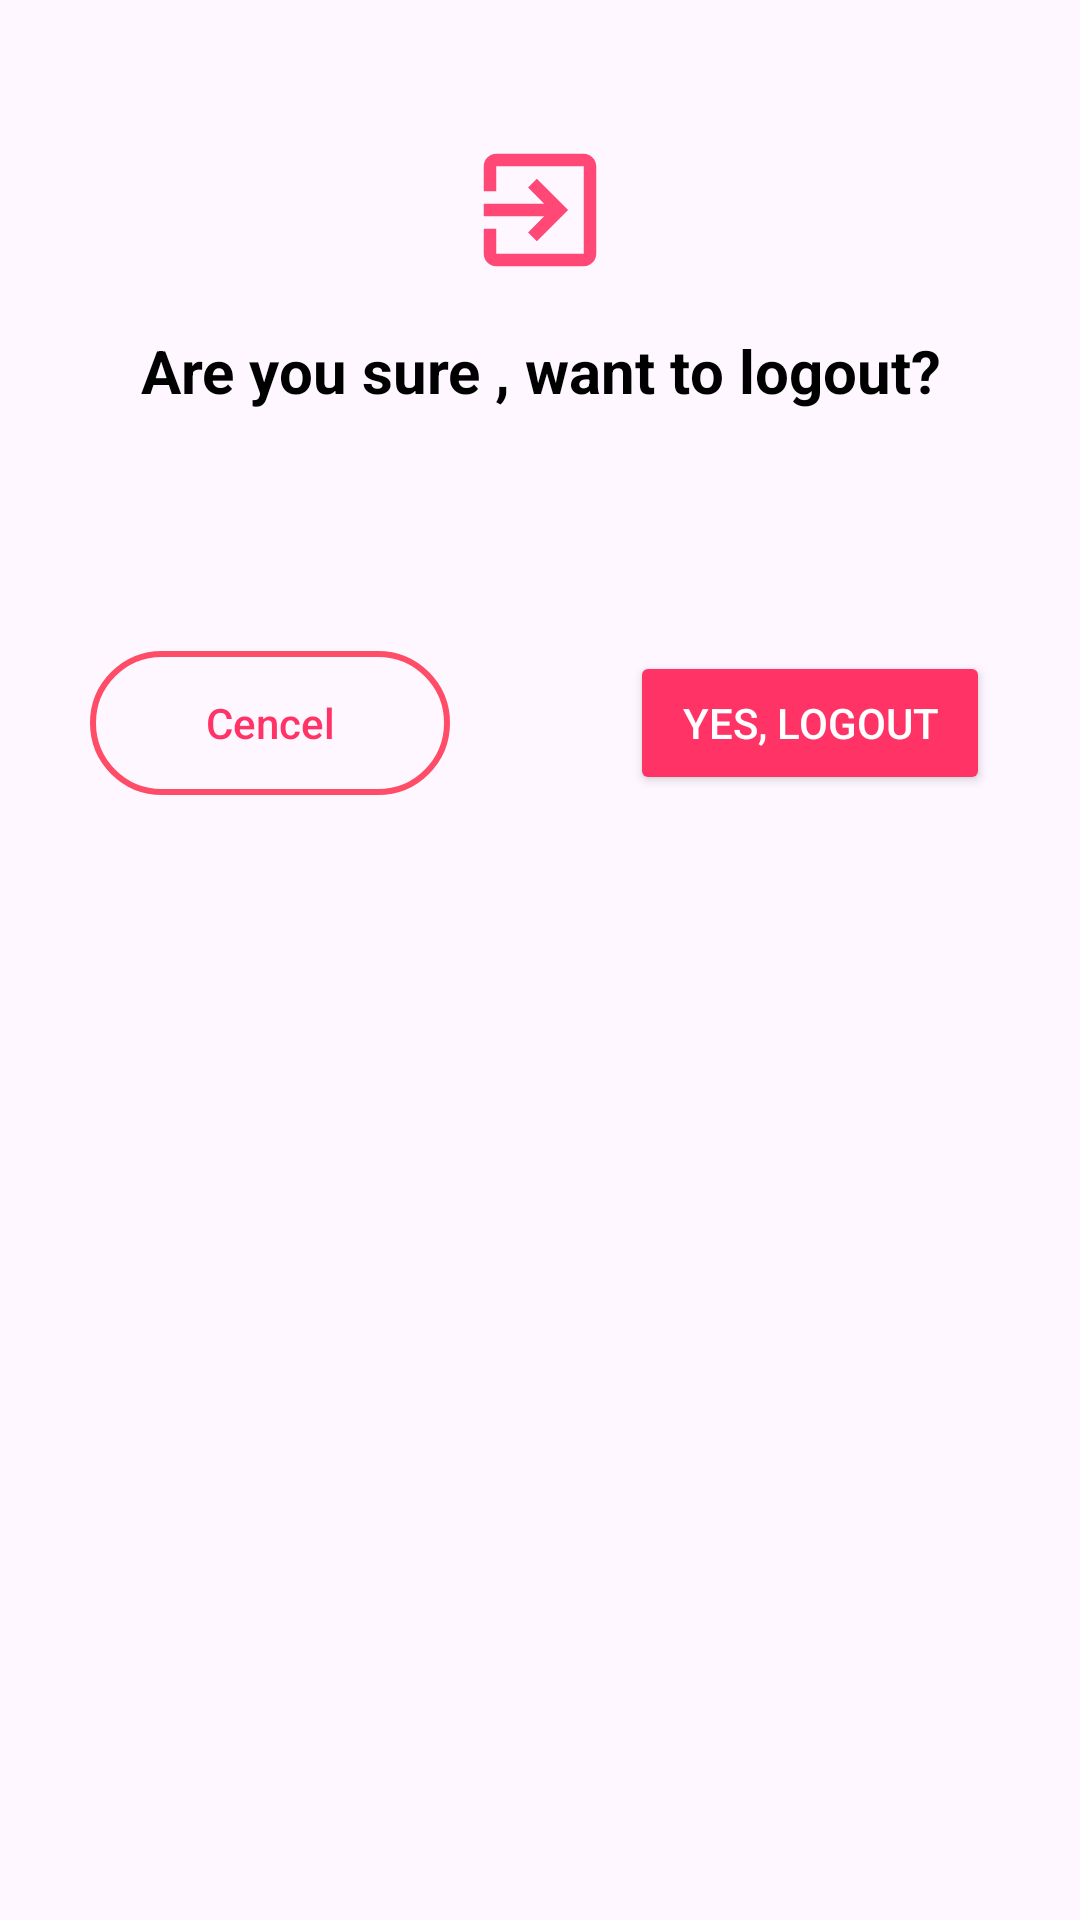

Named icons in this screenshot (1080w x 1920h) and their centers, point (x, y):
exit to app: point (540, 210)
